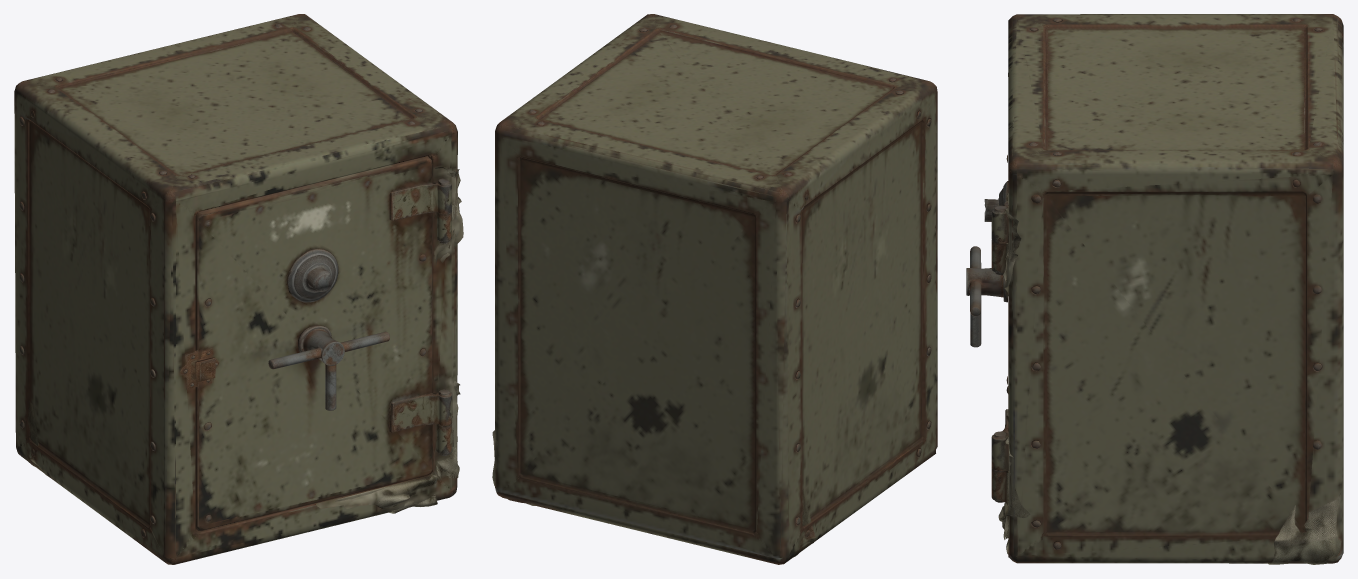
The model's file is silo81_safe.glb.
The picture shows the model from 3 angles, left to right: view 1: azimuth 30°, elevation 25°; view 2: azimuth 150°, elevation 25°; view 3: azimuth 270°, elevation 25°; orthographic projection. The views are drawn at different scales.
Bounding box in the file's own units: 0.8076 × 0.9551 × 0.8003.
Materials: 1 (1 with a texture image).
